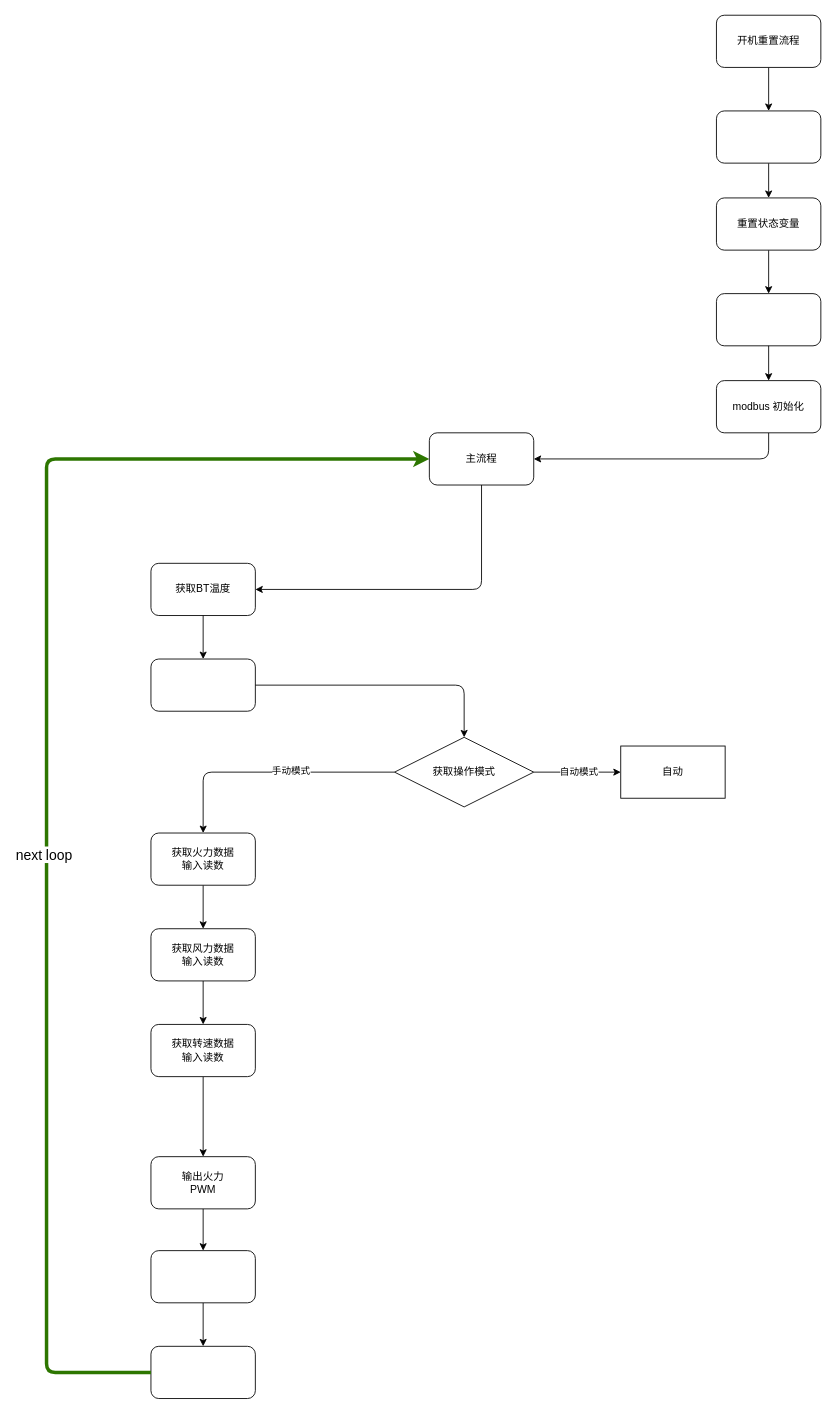
This 836x1414 diagram has some shape labels left out. The shapes that lost their labels are listed below. From the top down, each one's centre as x and y in pixels, then its label:
At pixel 768 136: "重置变量".
At pixel 768 319: "风机PWM输出最低值".
At pixel 202 684: "获取ET温度".
At pixel 202 1276: "输出风门 PWM".
At pixel 202 1372: "输出roll".
